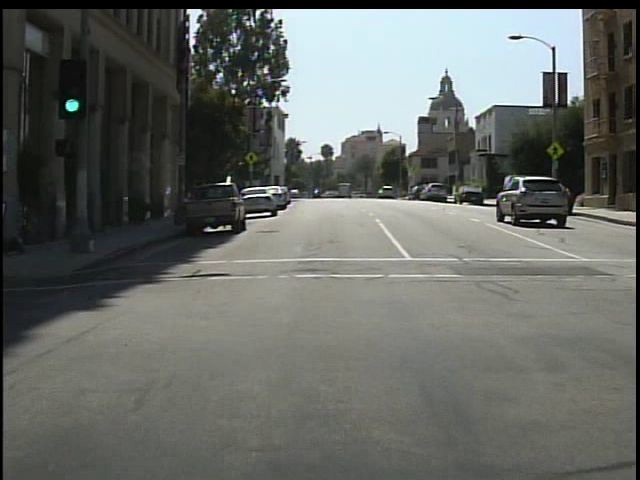person: (3, 161, 12, 271)
